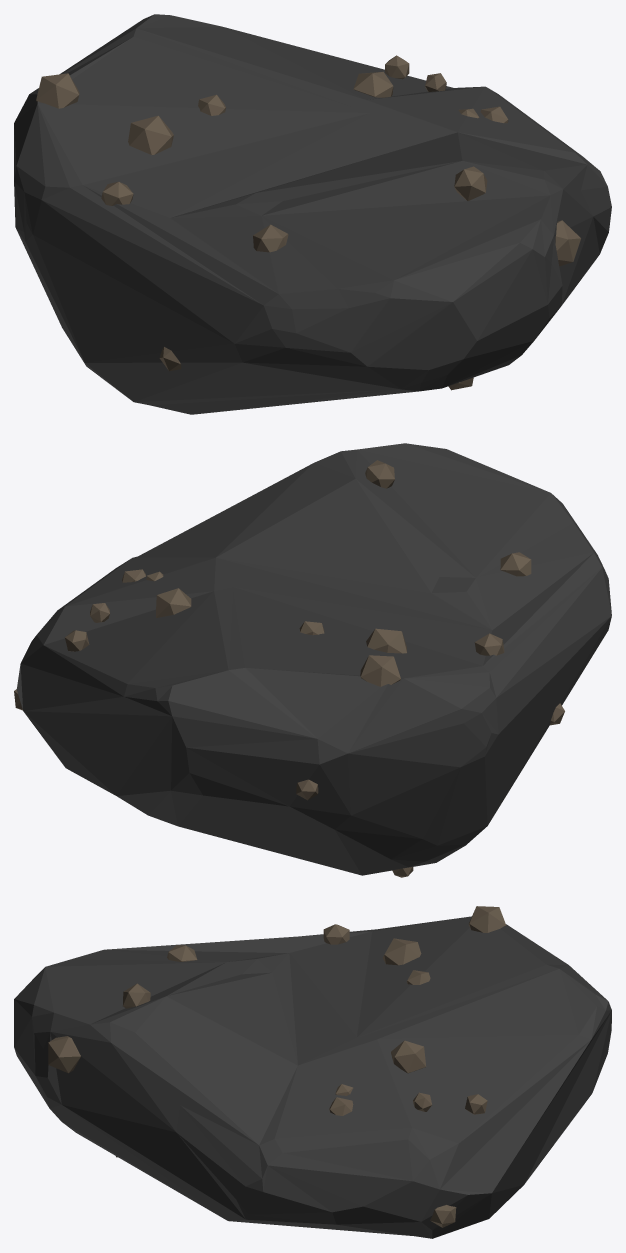
The model's file is Lowpoly_IronRock01.fbx.
The picture shows the model from 3 angles, top to bottom: view 1: azimuth 30°, elevation 25°; view 2: azimuth 150°, elevation 25°; view 3: azimuth 270°, elevation 25°; orthographic projection. The views are drawn at different scales.
Visible parts, largest first — view 1: IronRock01; view 2: IronRock01; view 3: IronRock01.
Boxes of the visible parts, x1,y1,x2,y2 form: IronRock01: [14, 14, 611, 414]; IronRock01: [14, 443, 611, 877]; IronRock01: [14, 906, 611, 1238].
Bounding box in the file's own units: 580 × 335 × 708.
